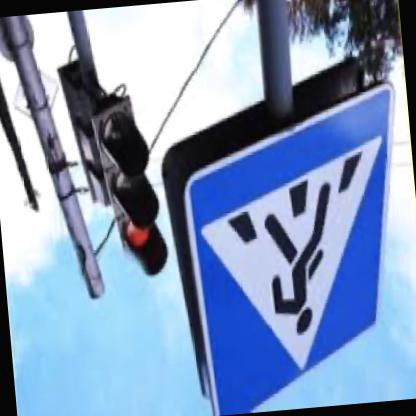crosswalk: (176, 79, 415, 415)
trafficlight: (98, 93, 169, 281)
